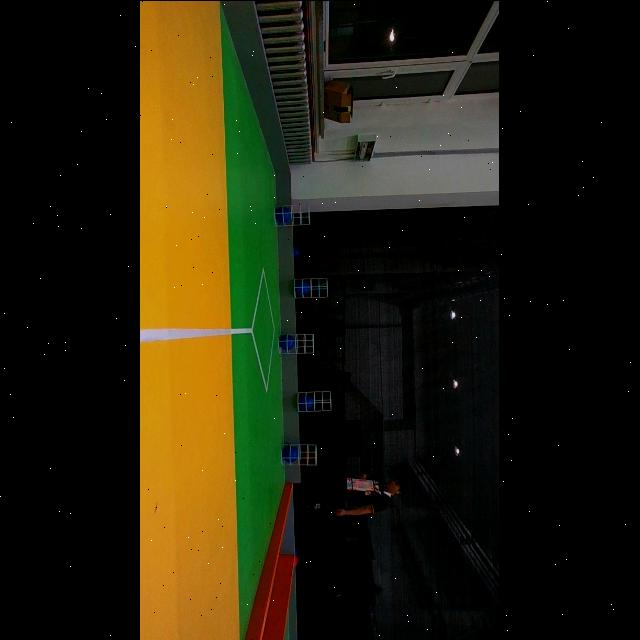B: (284, 444, 298, 462), (277, 205, 291, 221), (296, 278, 310, 294), (281, 333, 295, 349), (300, 393, 314, 409)
S: (282, 439, 316, 467), (276, 200, 310, 228), (298, 388, 332, 414), (280, 330, 314, 356), (295, 274, 329, 300)
